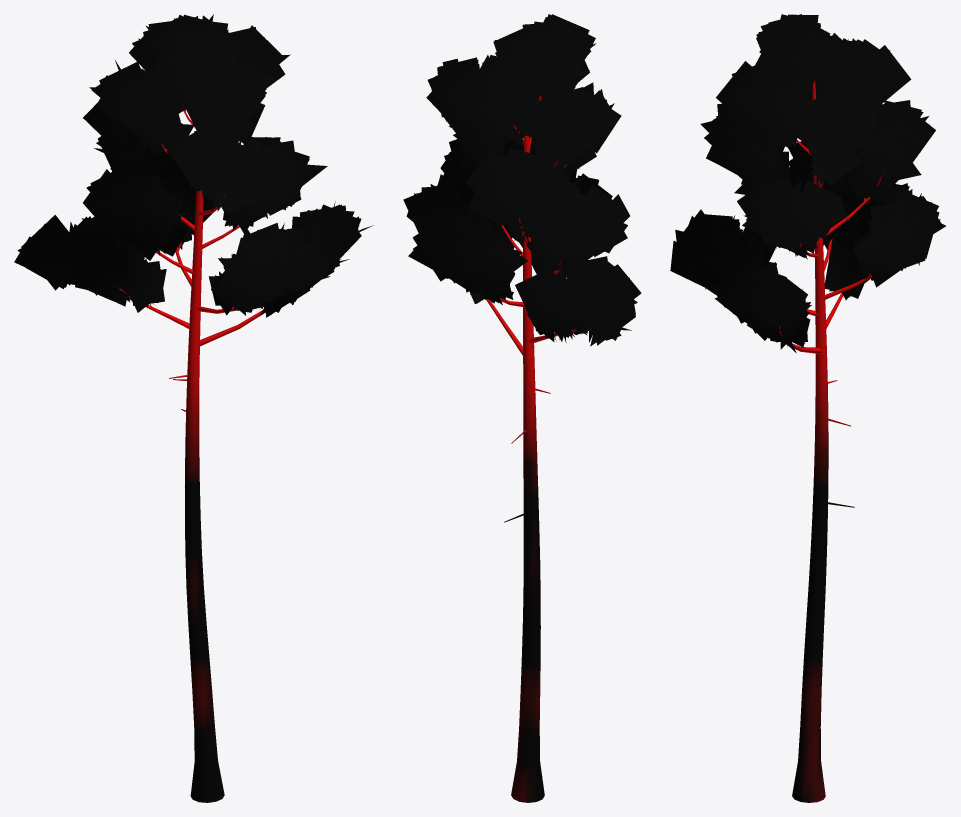
The model's file is tree_pine_b.glb.
The picture shows the model from 3 angles, left to right: view 1: azimuth 30°, elevation 25°; view 2: azimuth 150°, elevation 25°; view 3: azimuth 270°, elevation 25°; orthographic projection.
Parts seen in each view (by area): view 1: tree_pine_b.1, tree_pine_b.0; view 2: tree_pine_b.1, tree_pine_b.0; view 3: tree_pine_b.1, tree_pine_b.0.
Part boxes in pixels (box(x1,y1,x2,y2)): tree_pine_b.1: box(14, 14, 373, 317); tree_pine_b.0: box(117, 109, 265, 802); tree_pine_b.1: box(403, 14, 641, 346); tree_pine_b.0: box(486, 95, 576, 802); tree_pine_b.1: box(670, 14, 945, 353); tree_pine_b.0: box(779, 80, 884, 802).
Bounding box in the file's own units: 8.39 × 21.13 × 6.85.
